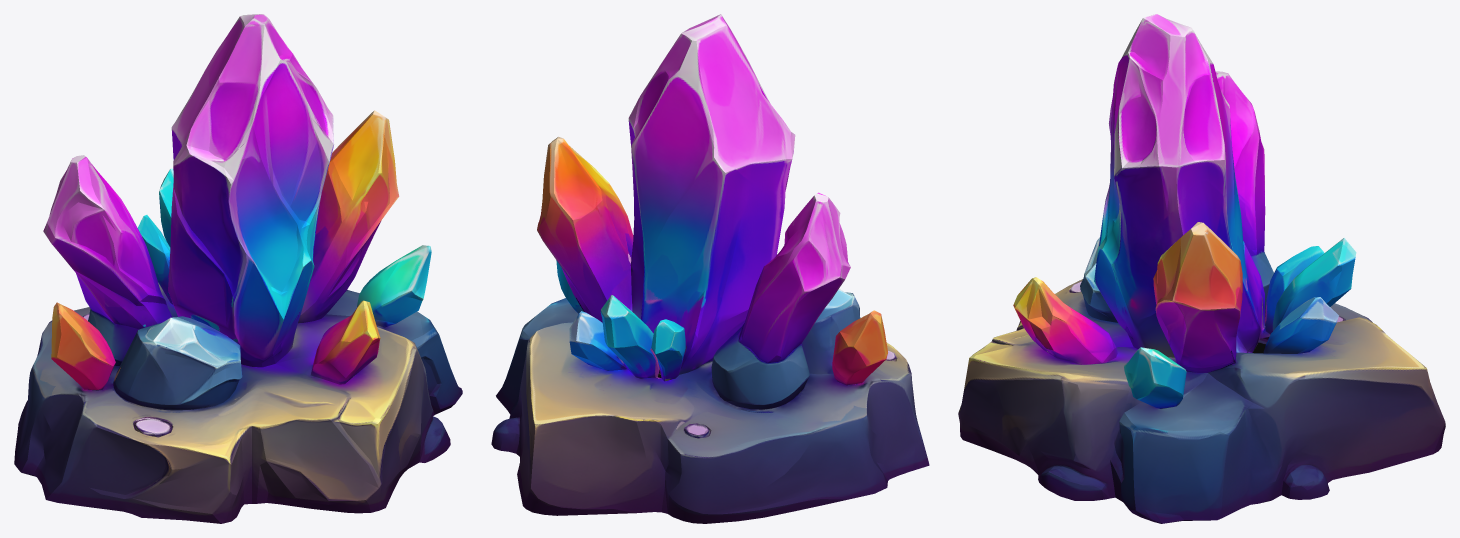
File: SM_Ore13.fbx
3 renders of one model, left to right at view 1: azimuth 30°, elevation 25°; view 2: azimuth 150°, elevation 25°; view 3: azimuth 270°, elevation 25°, orthographic. The views are drawn at different scales.
Parts seen in each view (by area): view 1: Ore13; view 2: Ore13; view 3: Ore13.
Boxes of the visible parts, left/top/right/bottom form: Ore13: left=14, top=14, right=462, bottom=523; Ore13: left=491, top=14, right=929, bottom=523; Ore13: left=958, top=14, right=1445, bottom=523.
Size of the model in its own units: 116 by 111 by 118.
Materials: 1 (1 with a texture image).
